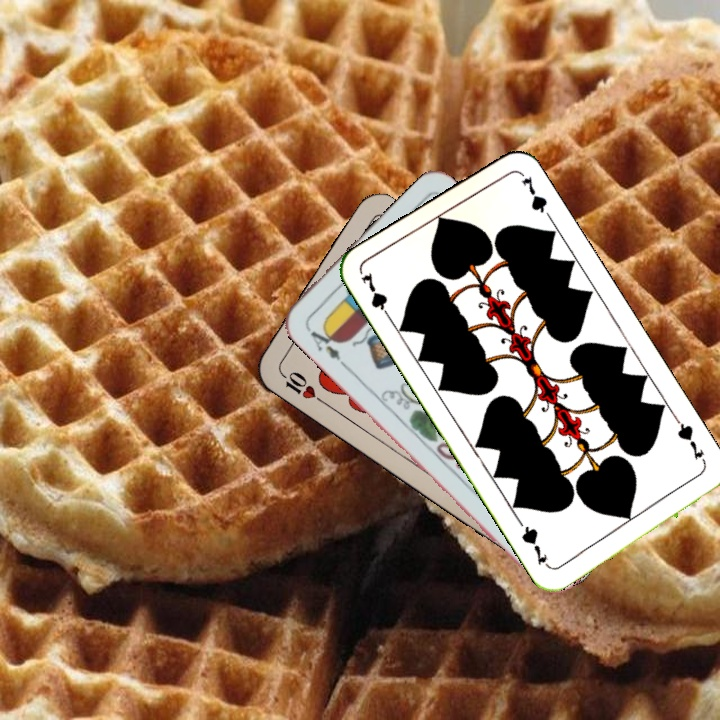EA: (302, 321, 348, 369)
G7: (357, 268, 395, 324), (672, 415, 709, 469)
H10: (275, 366, 327, 406)
